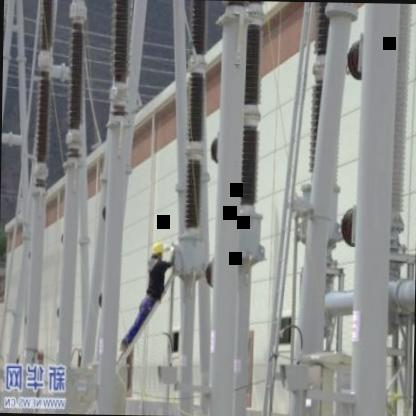helmet: (149, 238, 166, 266)
